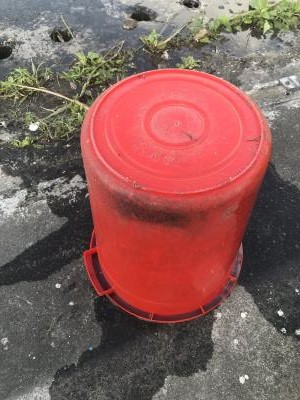bucket: (77, 65, 274, 326)
